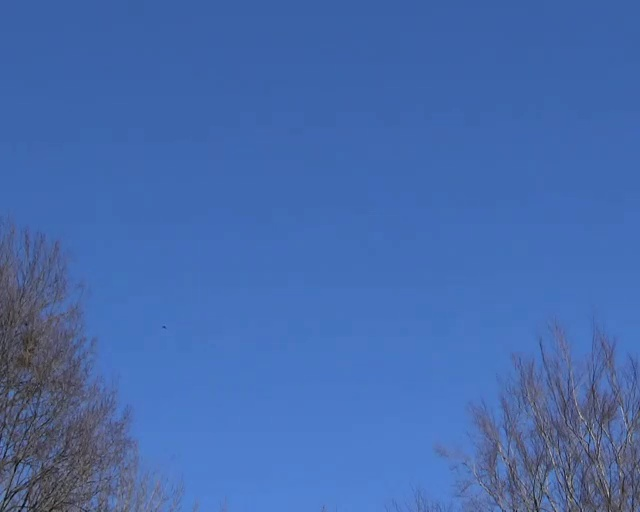BIRD: (162, 316, 168, 322)
